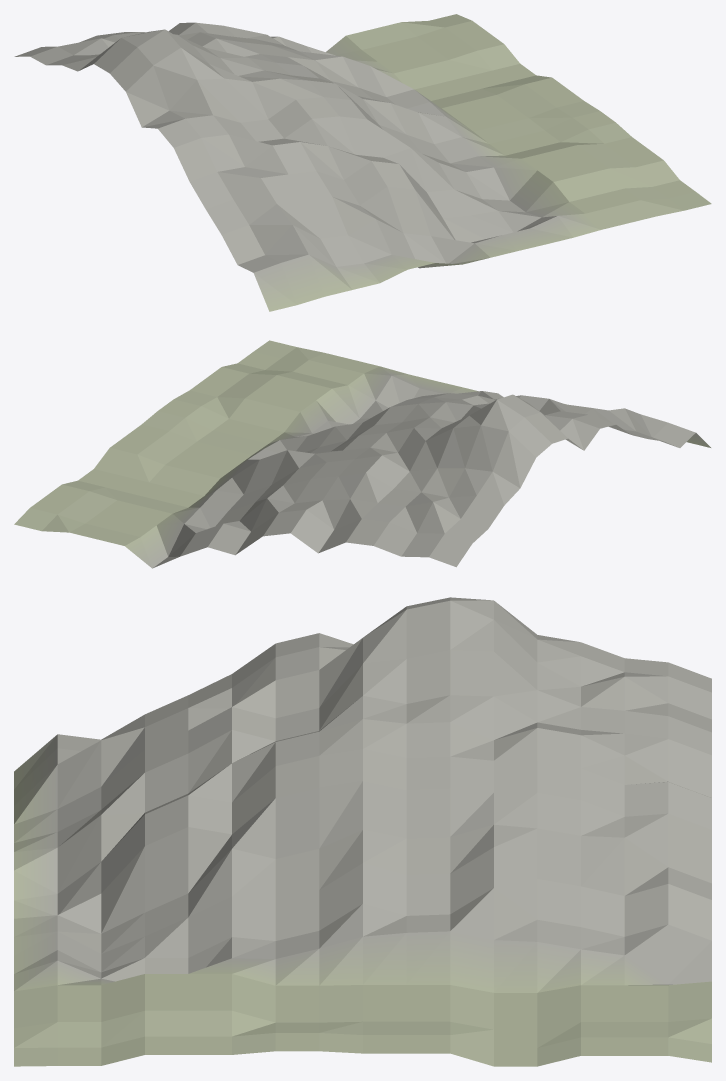
3 views of the same model, one above another, from view 1: azimuth 30°, elevation 25°; view 2: azimuth 150°, elevation 25°; view 3: azimuth 270°, elevation 25° (orthographic). The views are drawn at different scales.
Bounding box in the file's own units: 32 × 11.34 × 32.
